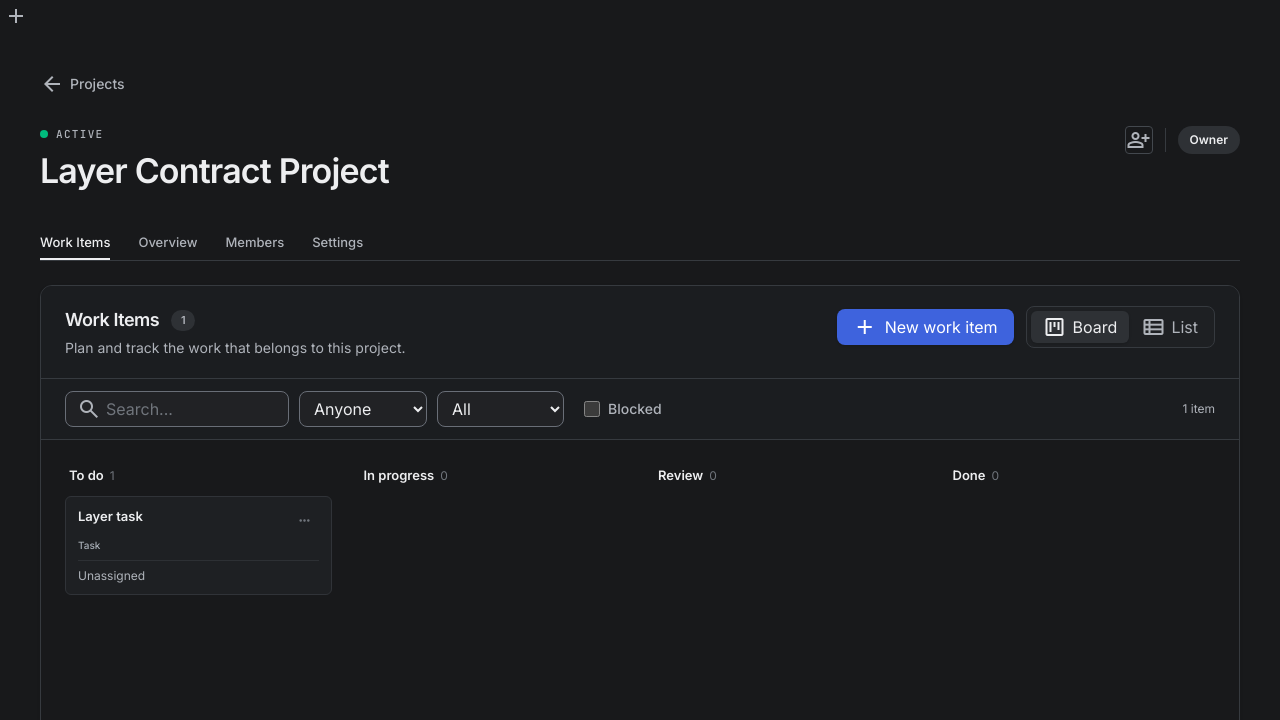
Work Item overlay layer ownership › launches the centrally managed create Drawer from the Project page on the same overlay root and keeps its outside-click dismissal
This screenshot has width=1280, height=720.
expect the button with aria-label "Open Layer task" is shown: met, box [65,496,332,595]
Click the button "New work item". click: (925, 327)
box: [837,309,1014,345]
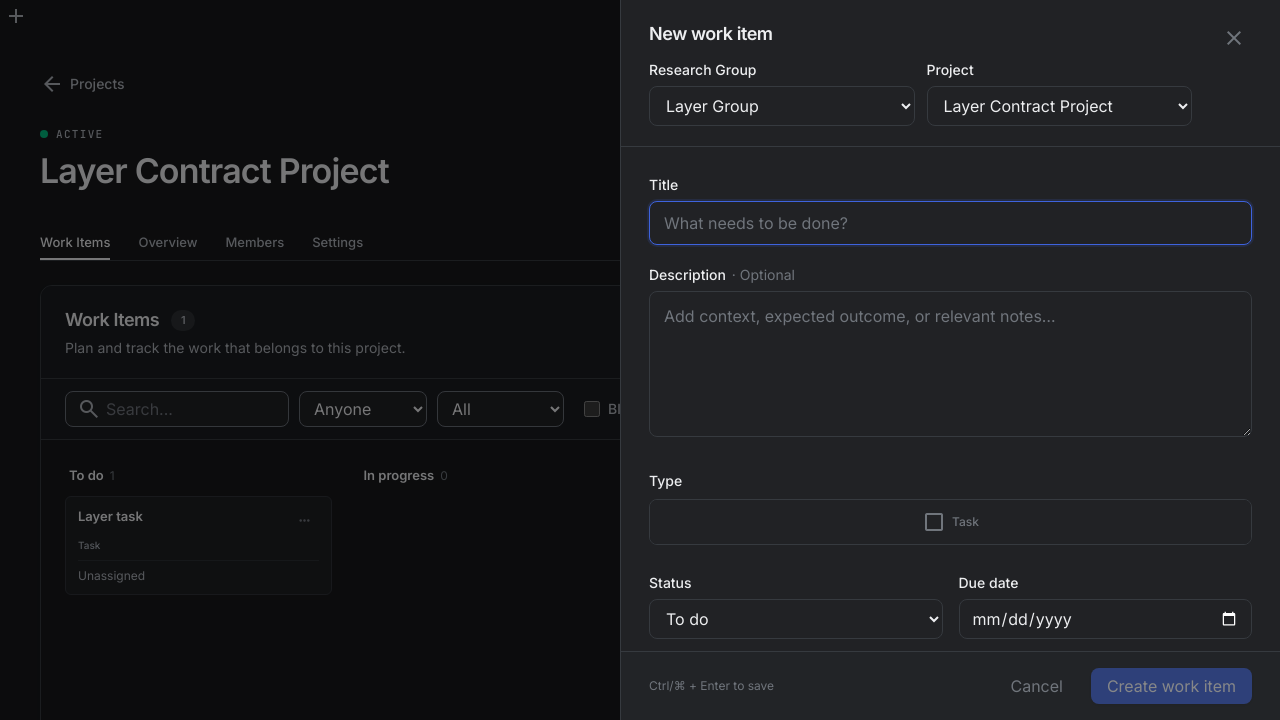
expect the dropdown labelled "Research Group" shows "Layer Group": met, box [649,86,914,126]
expect the dropdown labelled "Project" shows "Layer Contract Project": met, box [926,86,1192,126]
Press the mouse on the element that starts with "New work item" at (640, 360), box [0,0,1279,719]
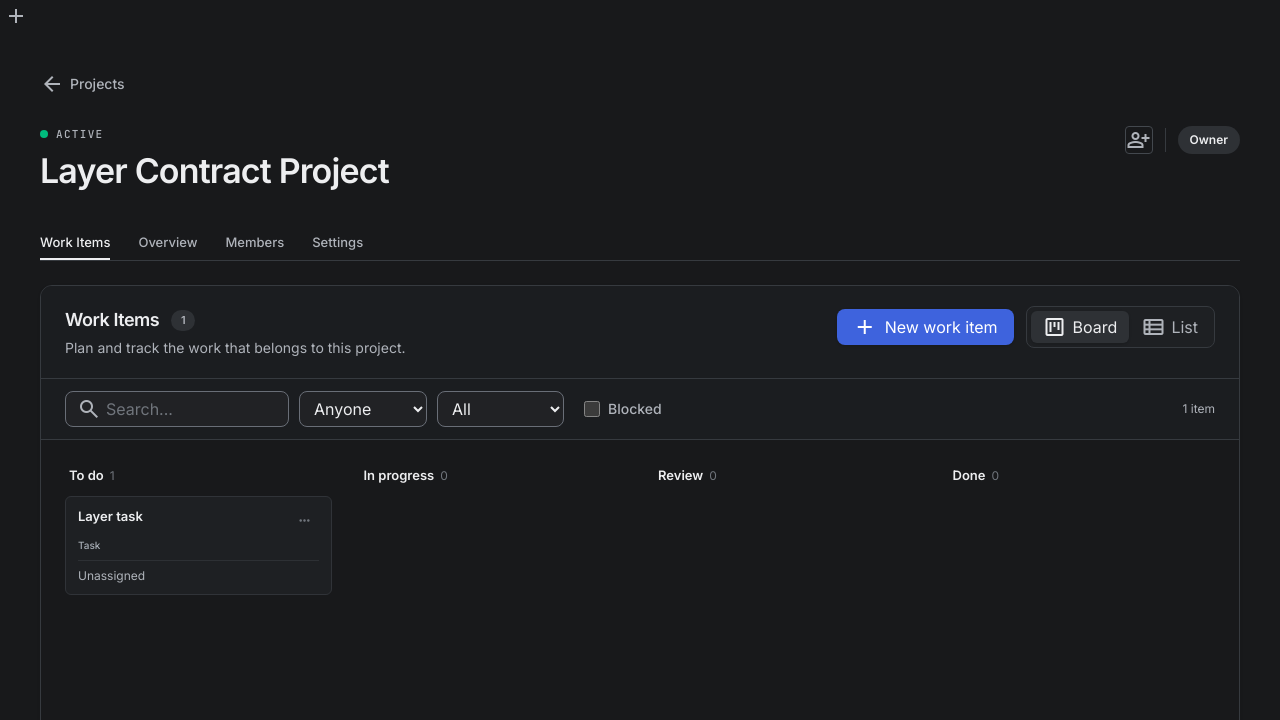
expect the dialog is gone: met
